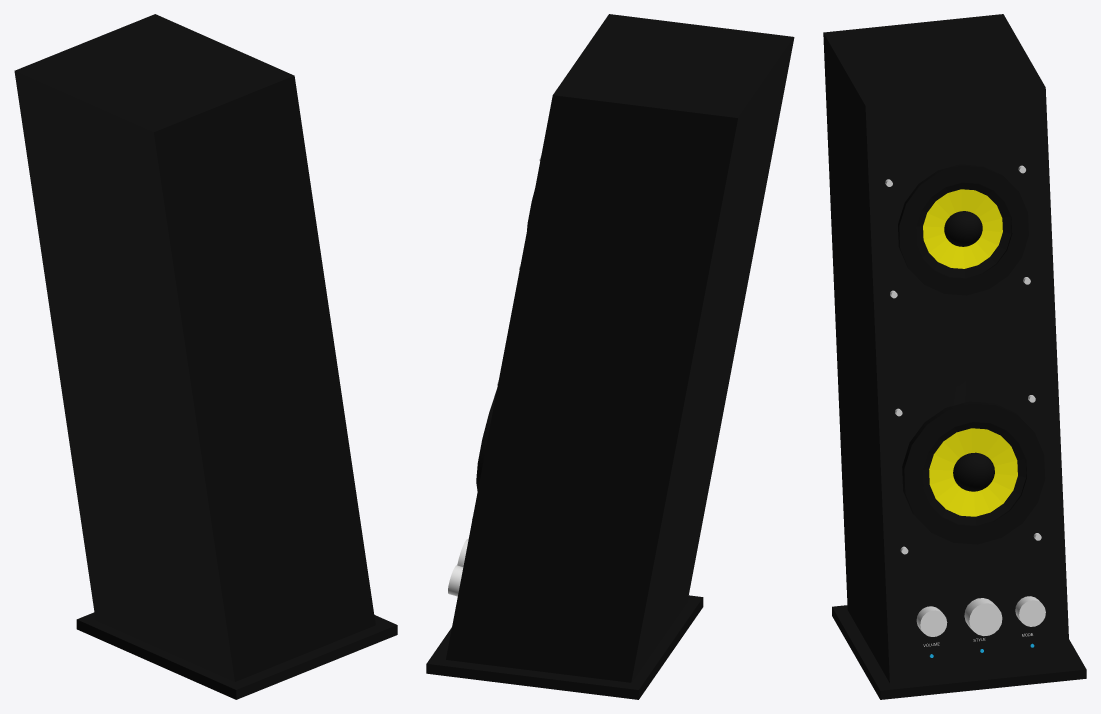
File: speaker.obj
The picture shows the model from 3 angles, left to right: view 1: azimuth 30°, elevation 25°; view 2: azimuth 150°, elevation 25°; view 3: azimuth 270°, elevation 25°; orthographic projection. The views are drawn at different scales.
Parts seen in each view (by area): view 1: Box002, Box001; view 2: Box002, Box001; view 3: Box002, Cylinder001, Cylinder005, Box001, Cylinder003, Cylinder007, Cylinder004, Cylinder006, Sphere001, Cylinder008, Sphere002, Cylinder010 (+1 smaller).
Boxes of the visible parts, <box> form: Box002: <box>14,14,375,681</box>; Box001: <box>76,612,397,699</box>; Box002: <box>446,14,794,682</box>; Box001: <box>426,595,703,699</box>; Box002: <box>823,14,1069,683</box>; Cylinder001: <box>902,401,1045,544</box>; Cylinder005: <box>898,164,1028,295</box>; Box001: <box>832,605,1086,699</box>; Cylinder003: <box>929,428,1017,516</box>; Cylinder007: <box>923,189,1002,268</box>; Cylinder004: <box>922,422,1026,525</box>; Cylinder006: <box>916,182,1011,277</box>; Sphere001: <box>953,452,994,491</box>; Cylinder008: <box>964,598,1002,636</box>; Sphere002: <box>944,211,982,246</box>; Cylinder010: <box>1015,596,1045,626</box>.
Size of the model in its own units: 16203 by 29008 by 12723.
